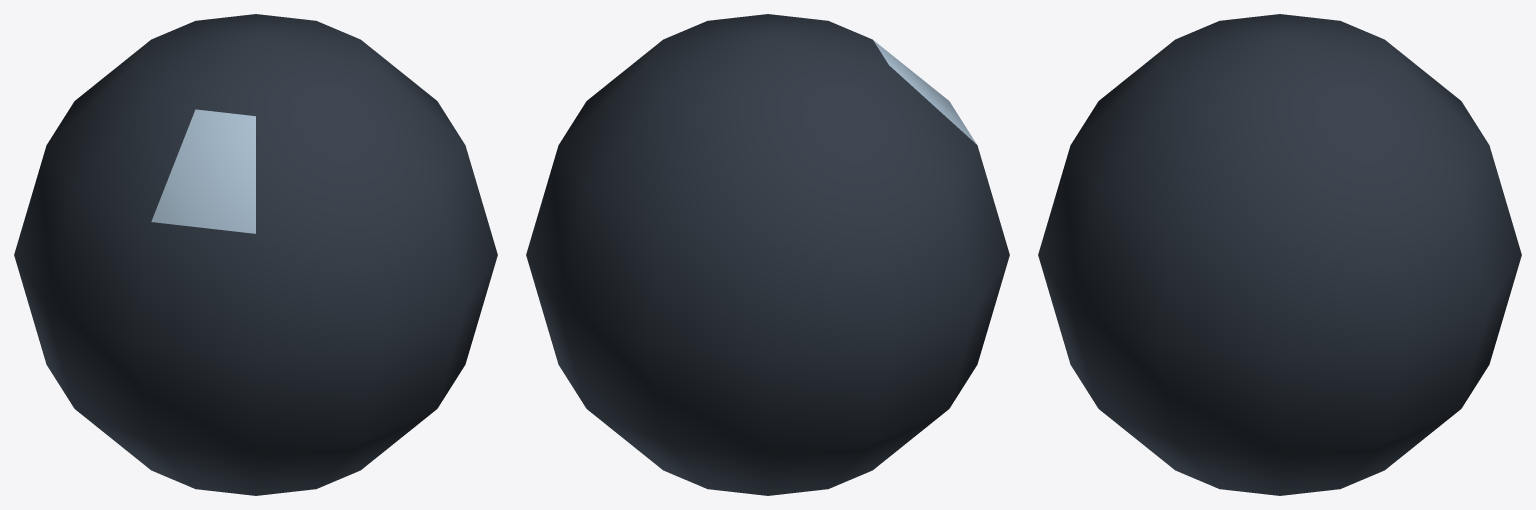
The model's file is fps_cannonball.glb.
The picture shows the model from 3 angles, left to right: view 1: azimuth 30°, elevation 25°; view 2: azimuth 150°, elevation 25°; view 3: azimuth 270°, elevation 25°; orthographic projection.
Visible parts, largest first — view 1: Cannonball; view 2: Cannonball; view 3: Cannonball.
Boxes of the visible parts, left/top/right/bottom form: Cannonball: left=14, top=14, right=497, bottom=495; Cannonball: left=526, top=14, right=1009, bottom=495; Cannonball: left=1038, top=14, right=1521, bottom=495.
Size of the model in its own units: 0.5 by 0.5 by 0.5.
